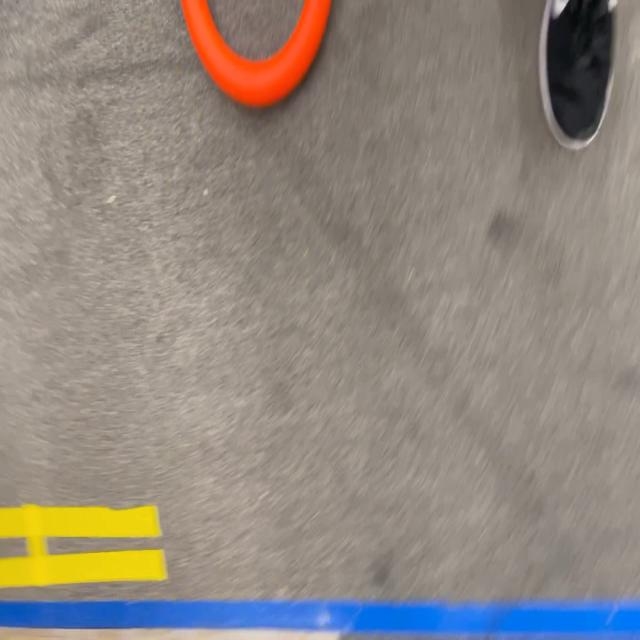note: (180, 0, 332, 105)
